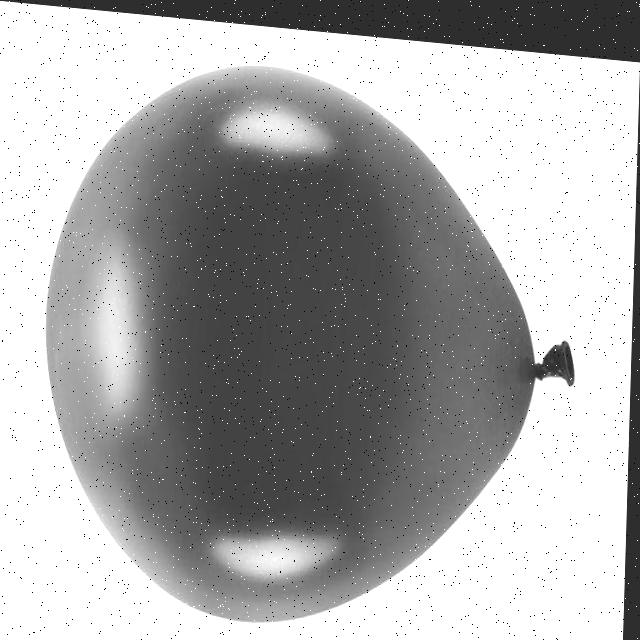balloon: (42, 44, 581, 635)
